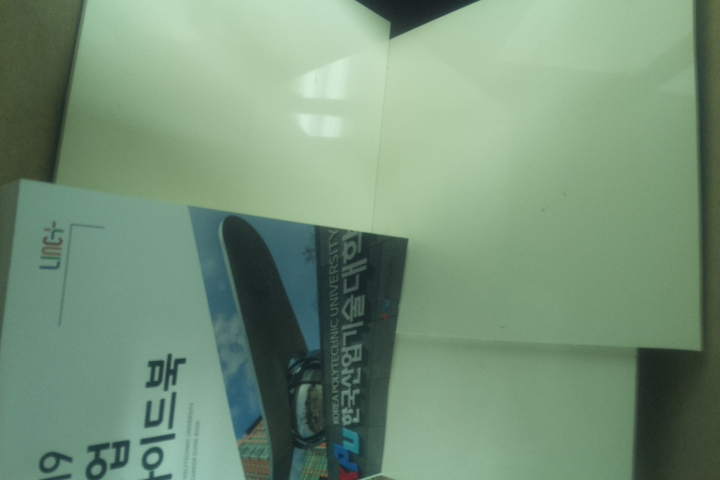book: (1, 176, 412, 479)
